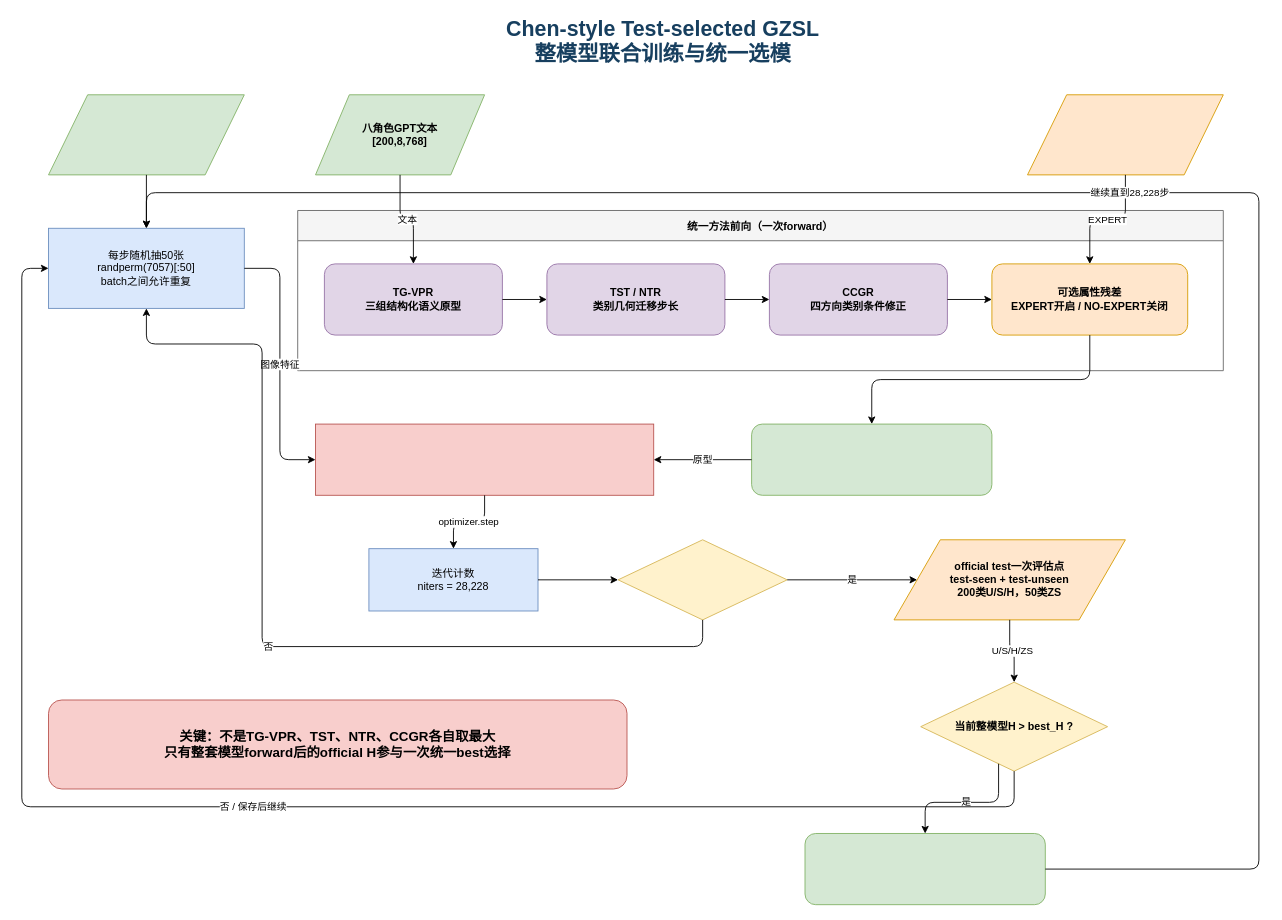
Some shapes in this 1282 by 920 pixel diagram are drawn without their labels. The shapes that lost their labels are listed below. From the top down, each one's centre as x and y in pixels, then its label:
pixel 146 134: trainval_loc 150类 / 7,057张 CLIP CLS [7057,768]
pixel 1125 134: 312维专家属性 仅EXPERT路线 NO-EXPERT直接旁路
pixel 484 459: 余弦logits → seen CE + topology Adam更新整套TG-VPR/TST/NTR/CCGR/属性分支
pixel 871 459: 200类最终原型 [200,768] 训练logits只取150个seen类
pixel 702 579: i % 141 == 0 ?
pixel 924 869: 保存整模型model_best U/S/H/ZS来自同一checkpoint
